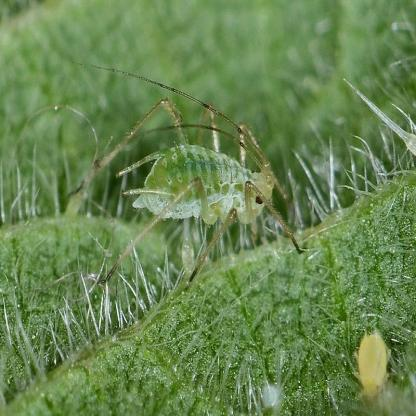aphid: (87, 63, 302, 284), (342, 319, 406, 416)
